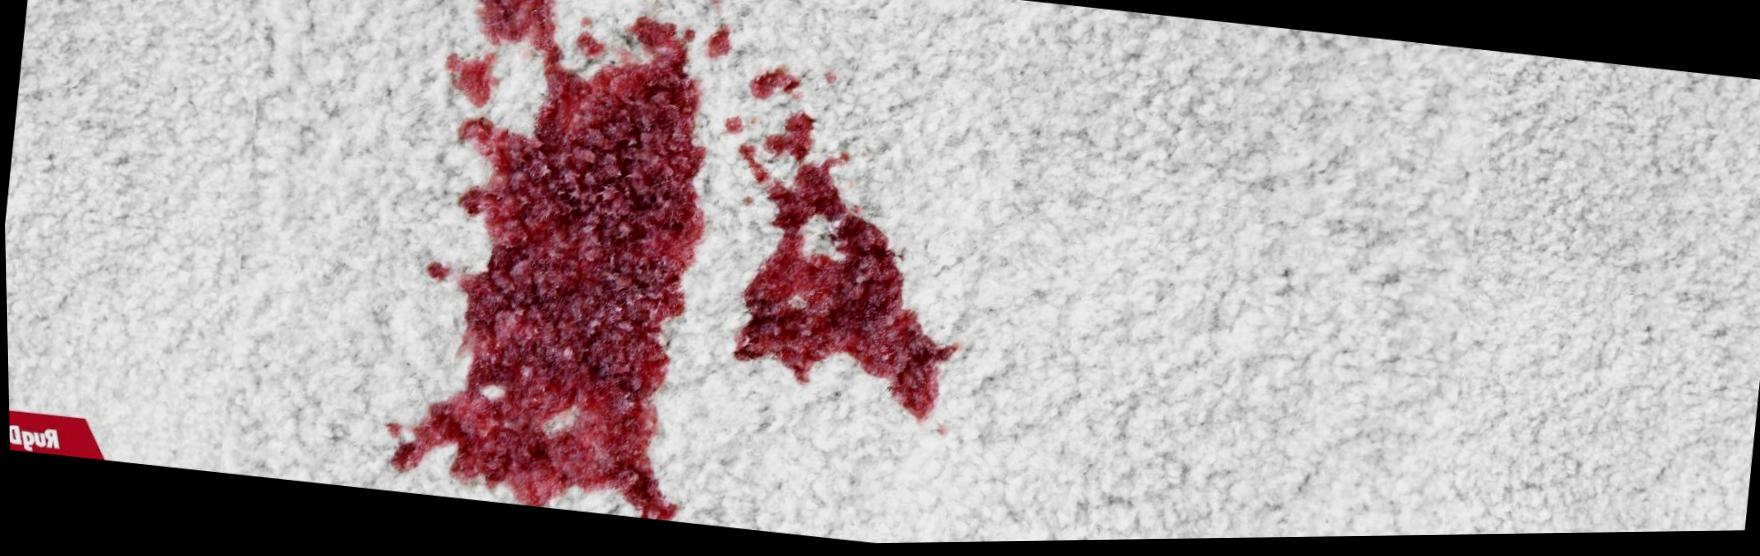Fire: (387, 0, 708, 523), (730, 112, 961, 426), (443, 53, 499, 109), (750, 69, 801, 102), (703, 24, 732, 62), (576, 31, 606, 60), (424, 262, 451, 284)
